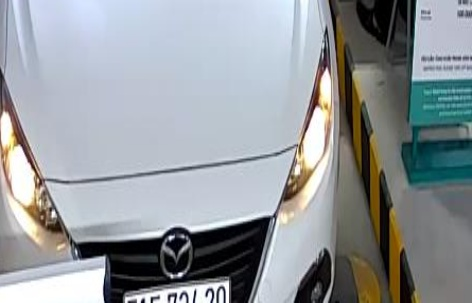plate: (121, 279, 244, 303)
